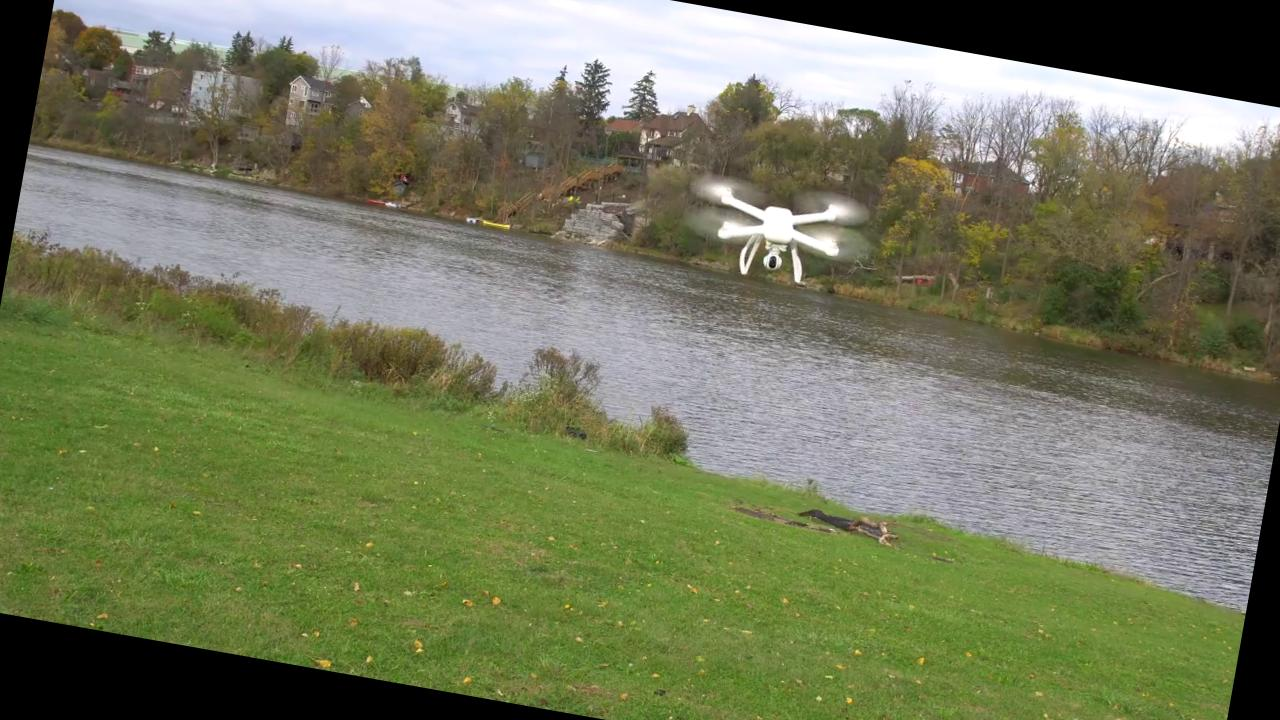drone: (688, 166, 874, 294)
